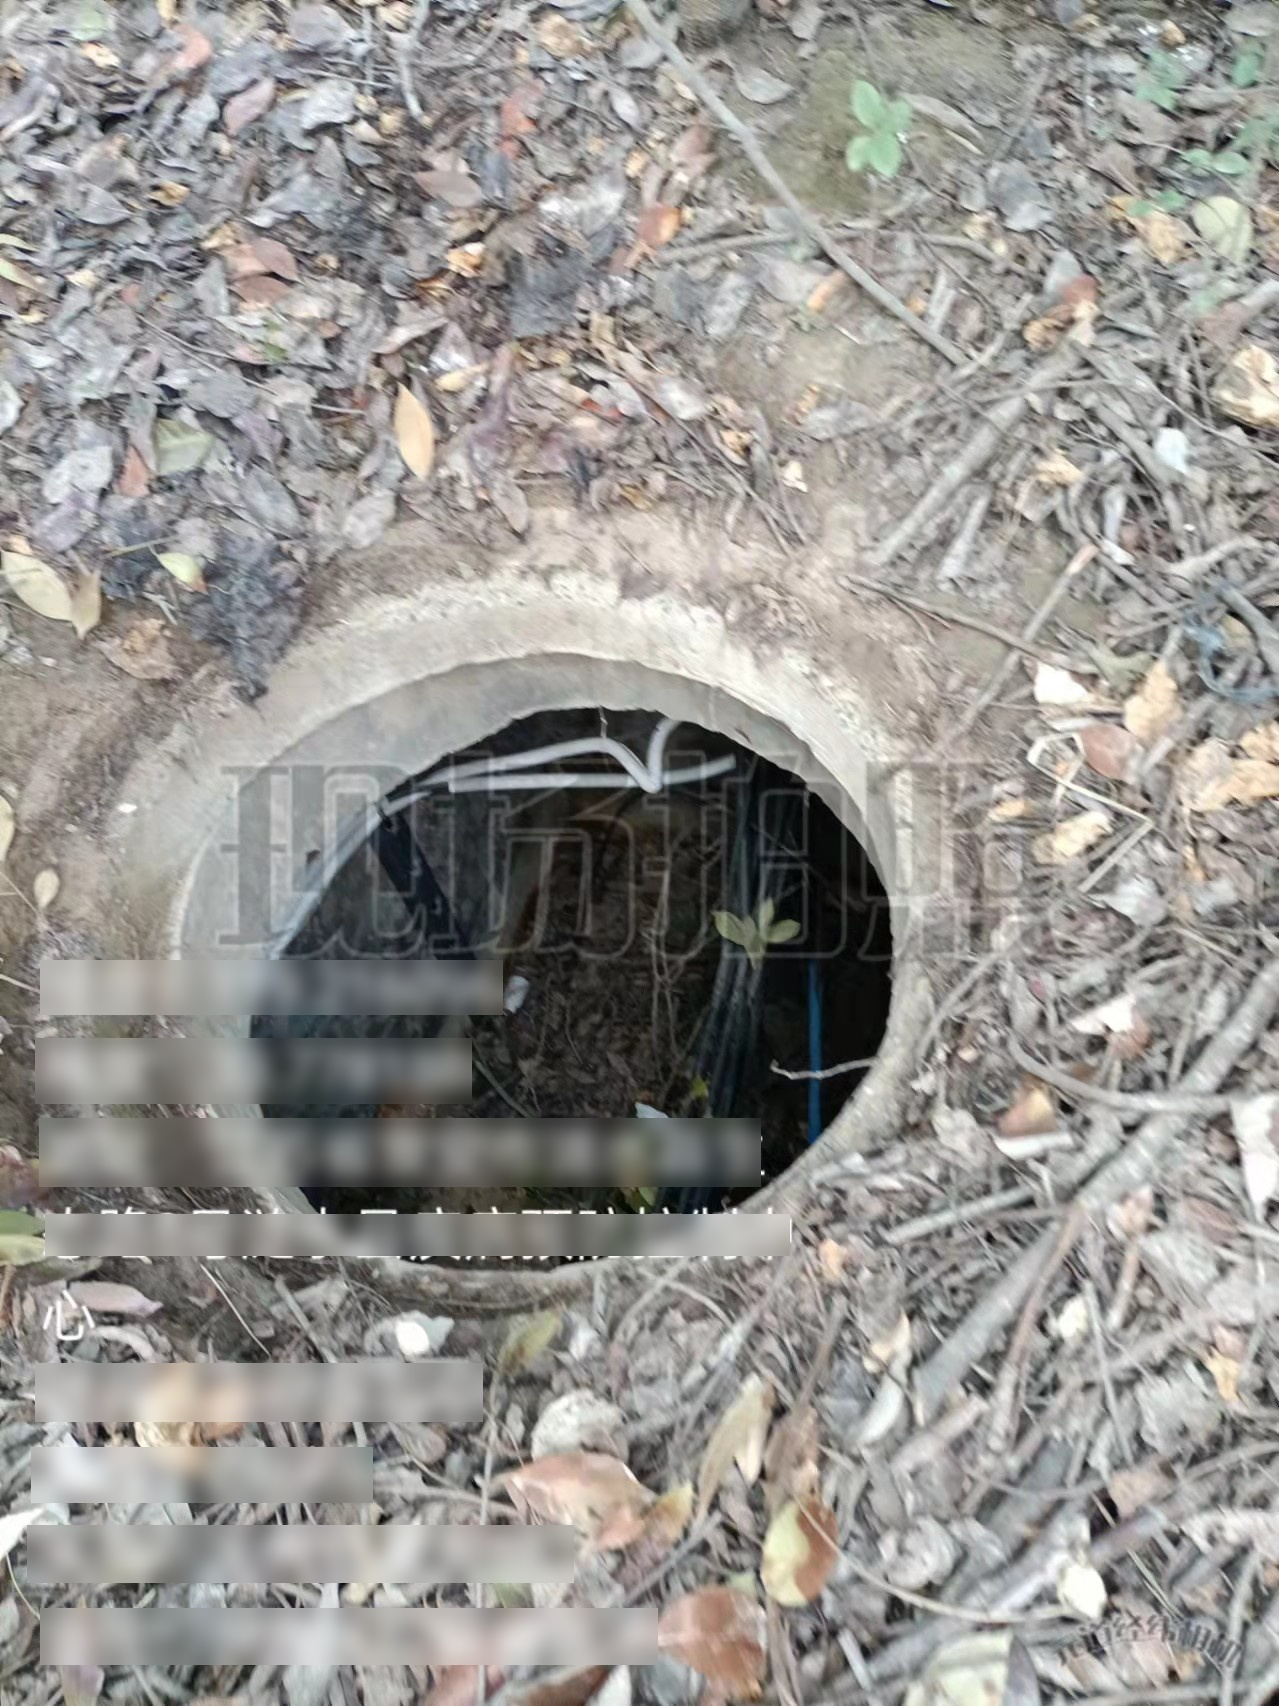lose: (165, 639, 924, 1302)
